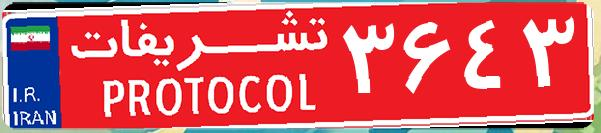3: (340, 20, 400, 115), (520, 20, 580, 115)
4: (460, 20, 520, 115)
6: (400, 20, 460, 115)
تشریفات: (60, 8, 340, 125)
